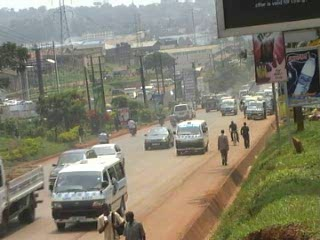Car: (48, 147, 99, 195), (88, 142, 127, 175), (143, 124, 176, 151)
Motorcycle: (124, 116, 138, 137), (98, 128, 110, 144), (154, 111, 165, 128), (169, 111, 179, 128), (239, 97, 246, 113)
